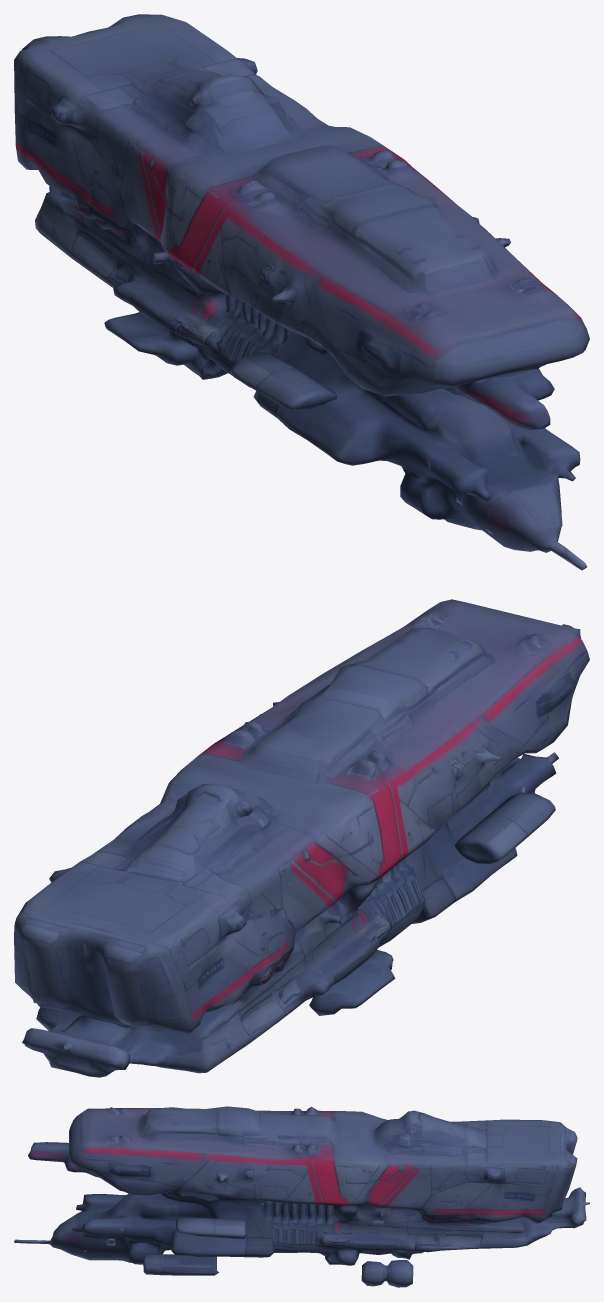
The model's file is ipc_new_desktop.glb.
3 views of the same model, one above another, from view 1: azimuth 30°, elevation 25°; view 2: azimuth 150°, elevation 25°; view 3: azimuth 270°, elevation 25° (orthographic). The views are drawn at different scales.
Parts seen in each view (by area): view 1: IPC_Cruiser; view 2: IPC_Cruiser; view 3: IPC_Cruiser.
Boxes of the visible parts, x1,y1,x2,y2 form: IPC_Cruiser: [14, 14, 589, 570]; IPC_Cruiser: [14, 599, 589, 1077]; IPC_Cruiser: [14, 1106, 589, 1287].
Size of the model in its own units: 8.88 by 7.35 by 25.4.
1 material, 1 textured.
